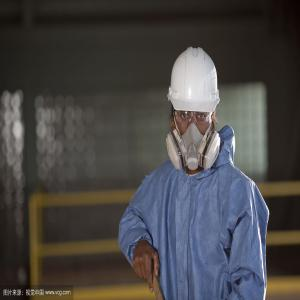white: (169, 46, 221, 162)
